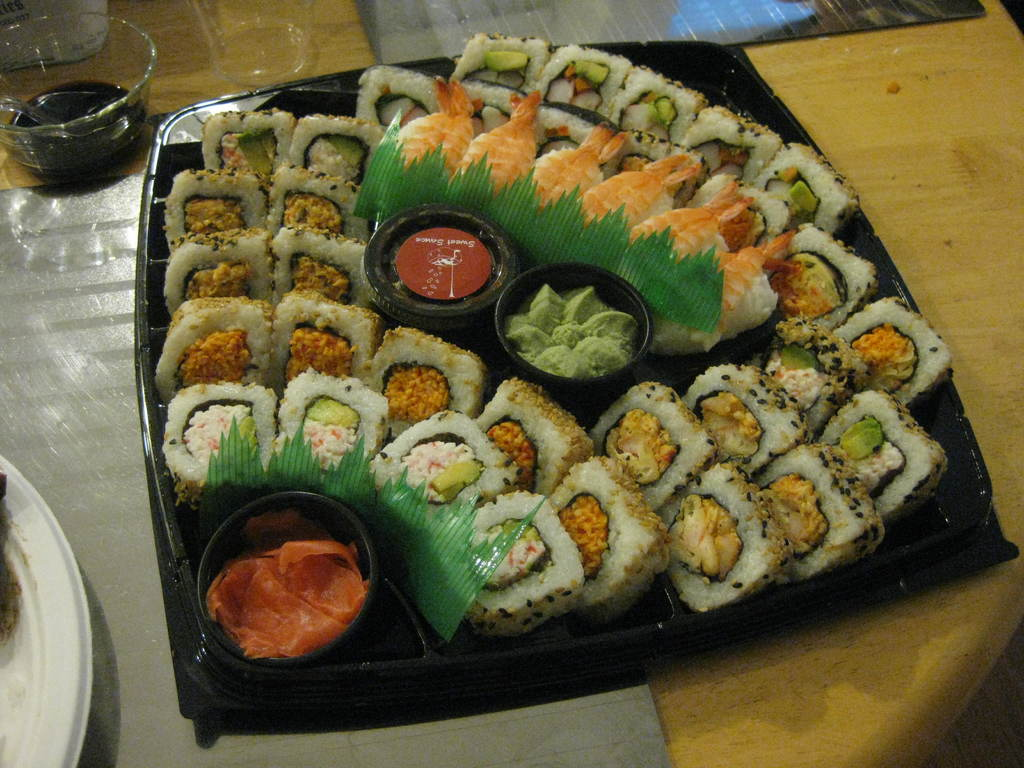sushi: (154, 31, 957, 636), (457, 492, 582, 636)
